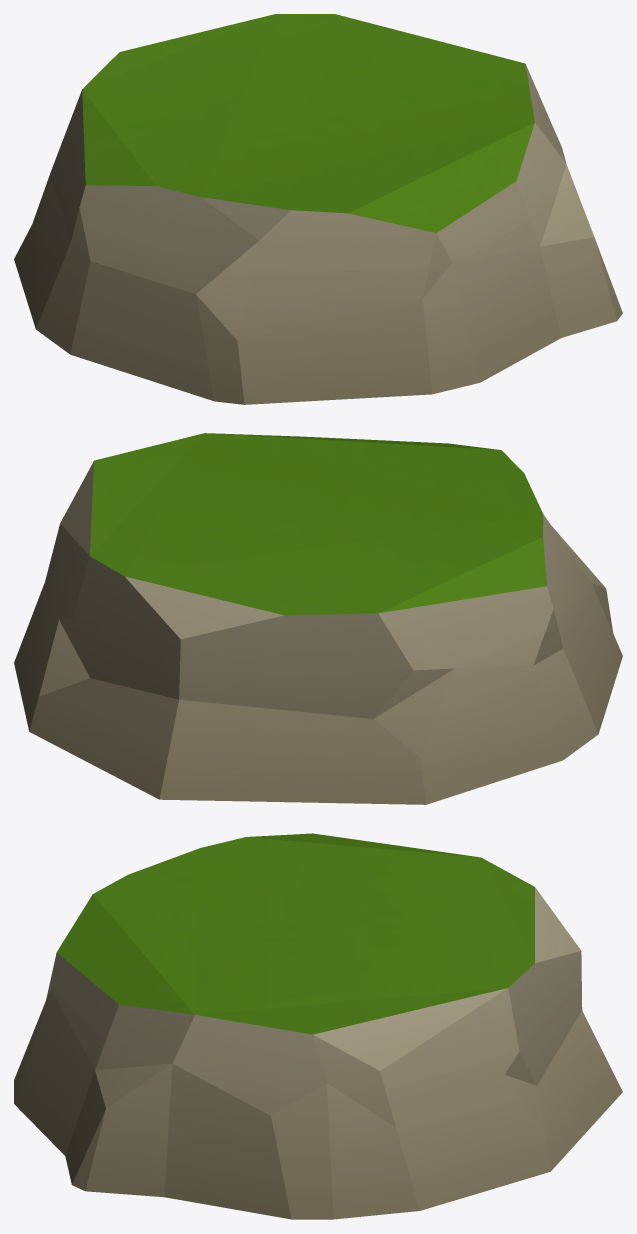
File: RockGrass_04.fbx
The picture shows the model from 3 angles, top to bottom: view 1: azimuth 30°, elevation 25°; view 2: azimuth 150°, elevation 25°; view 3: azimuth 270°, elevation 25°; orthographic projection. The views are drawn at different scales.
Visible parts, largest first — view 1: RockGrass_04; view 2: RockGrass_04; view 3: RockGrass_04.
Part boxes in pixels (x1=…): RockGrass_04: x1=14, y1=14, x2=622, y2=404; RockGrass_04: x1=14, y1=433, x2=622, y2=804; RockGrass_04: x1=14, y1=833, x2=622, y2=1219.
Size of the model in its own units: 421 by 130 by 429.
